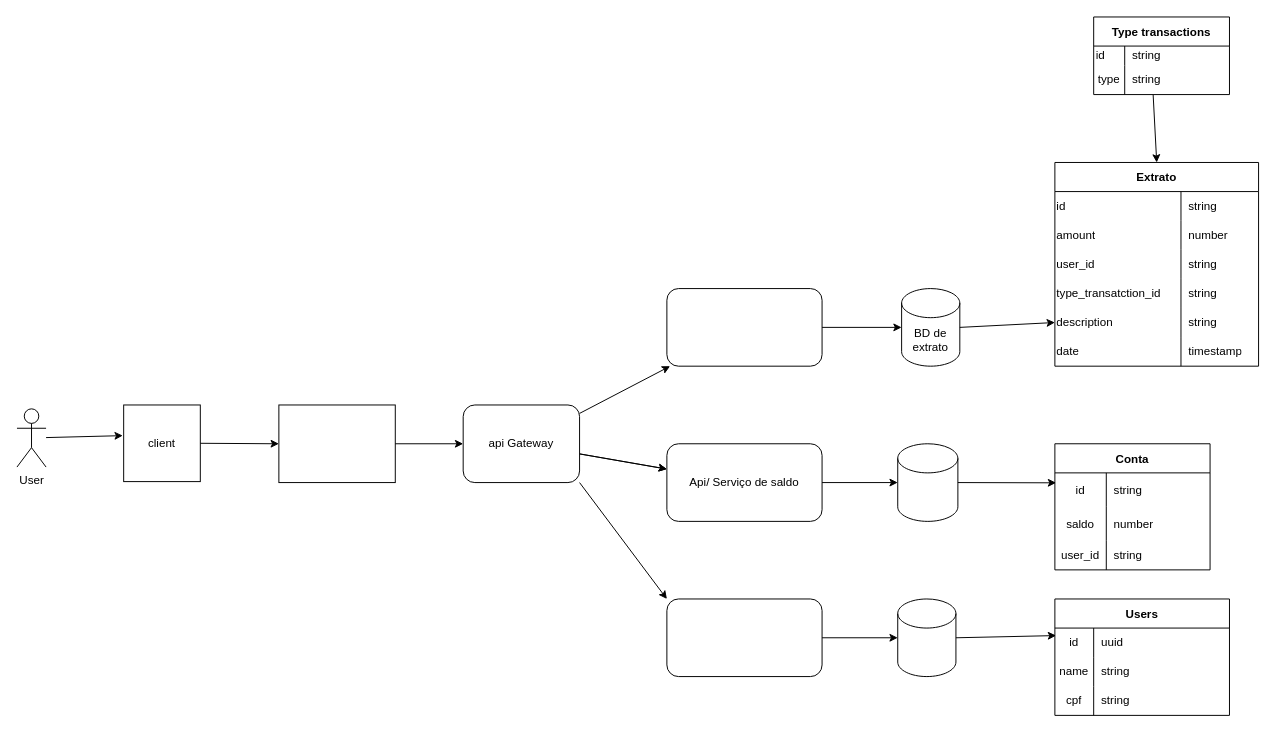
This 1276x732 diagram has some shape labels left out. Each missing label, with the centre of its shape:
"Api de users" belongs at [744,637].
"Api/ Serviço de extrato" belongs at [744,327].
"BD de saldo" belongs at [927,482].
"BD de users" belongs at [926,637].
"Load Balancer" belongs at [336,443].
